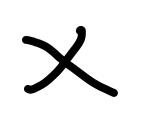mult: (22, 26, 119, 98)
